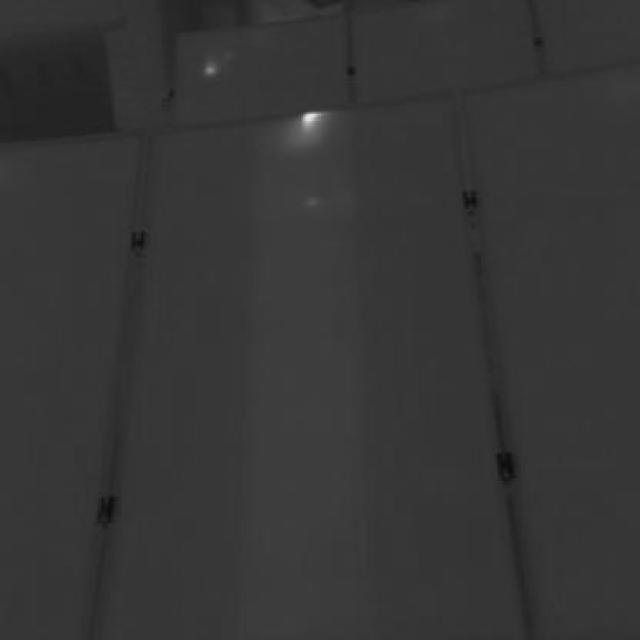hotspot: (290, 105, 324, 136)
